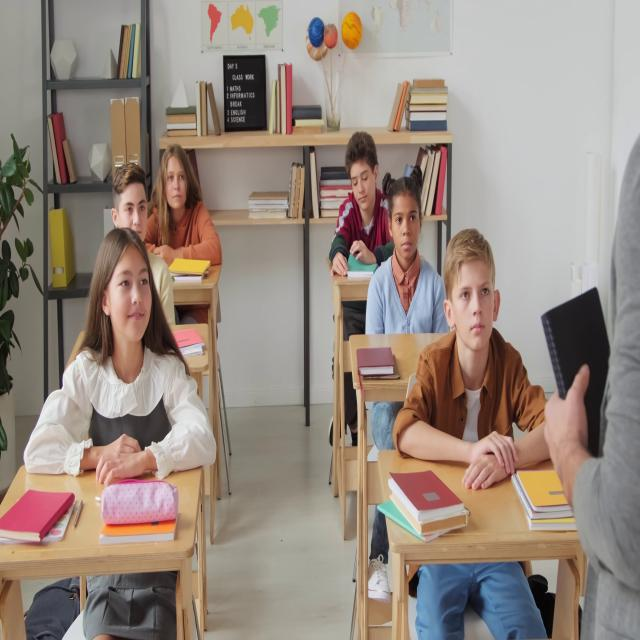listening: (391, 238, 560, 639), (25, 234, 221, 468), (363, 173, 448, 346), (147, 142, 225, 319), (110, 164, 178, 322), (328, 130, 390, 272)
